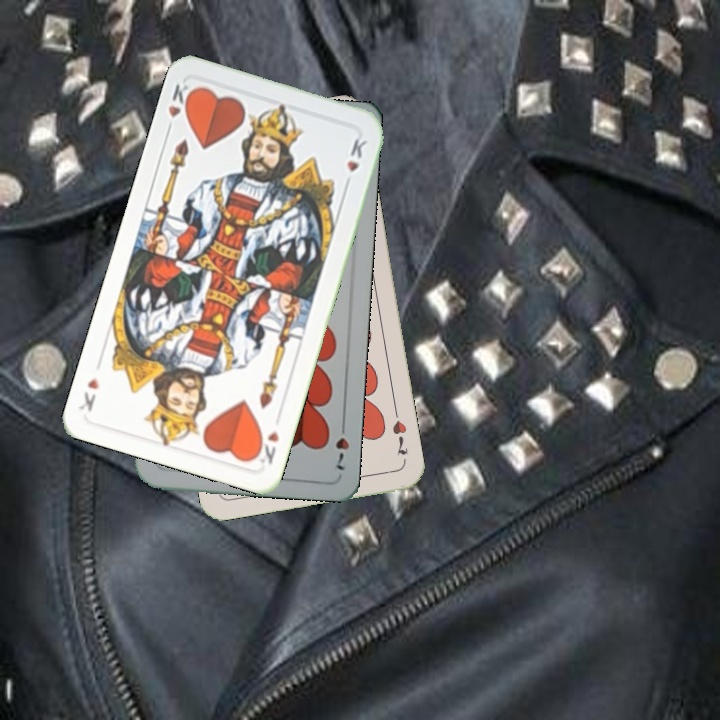H7: (388, 405, 411, 458), (332, 416, 352, 473)
HK: (162, 79, 197, 136), (250, 427, 281, 467)
